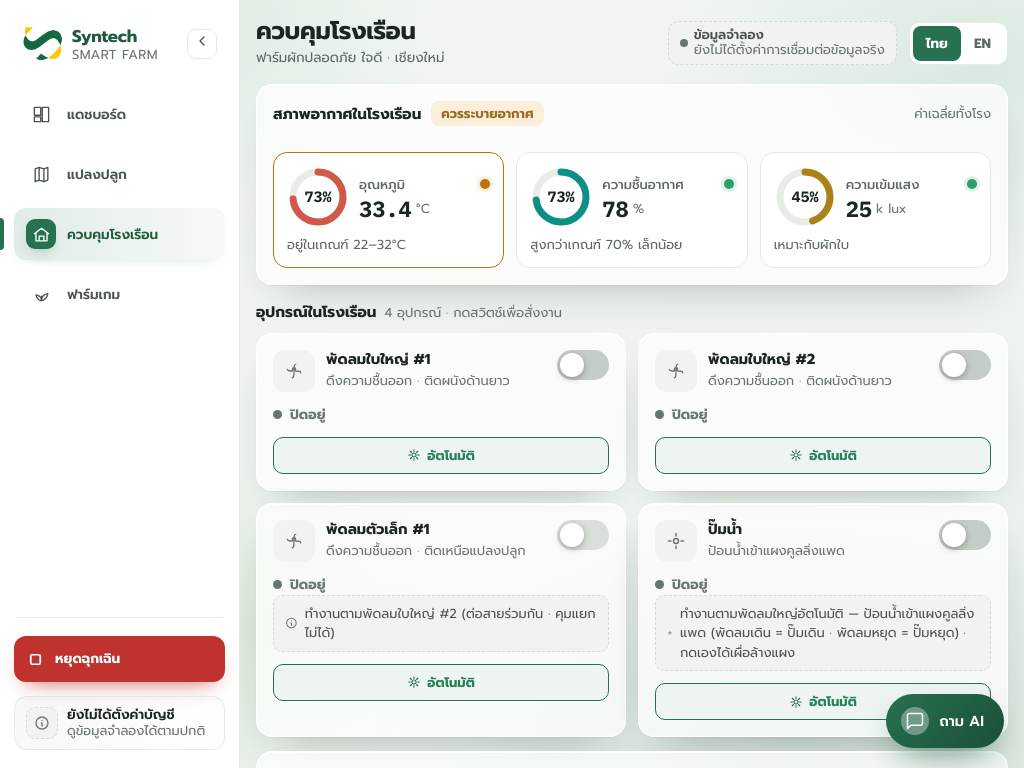
it: หน้าจอสั่งอุปกรณ์ผ่านห่วงโซ่กลาง (confirm) จริง ไม่เขียน chain เอง › พัดลมสั่งผ่านห่วงโซ่กลาง — กดแล้วขึ้นกล่องยืนยัน
Step 1. Click the switch named "พัดลมใบใหญ่ #2 — ปิดอยู่" → (965, 365), box [939, 350, 991, 380]
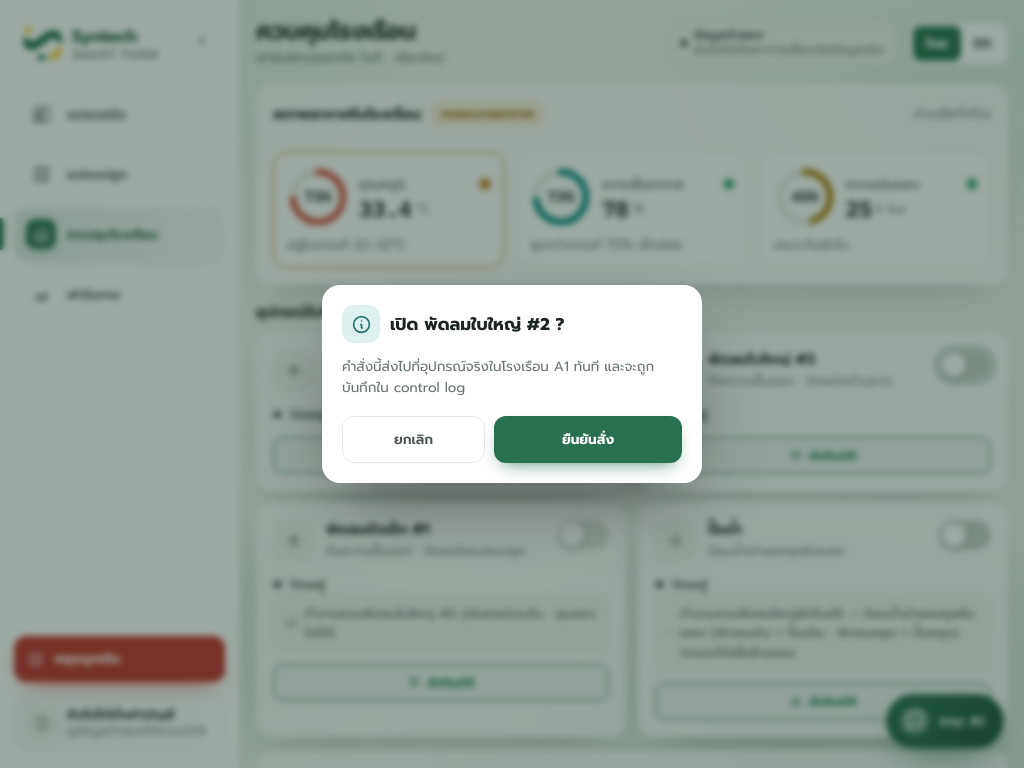
Expected: the dialog is shown
